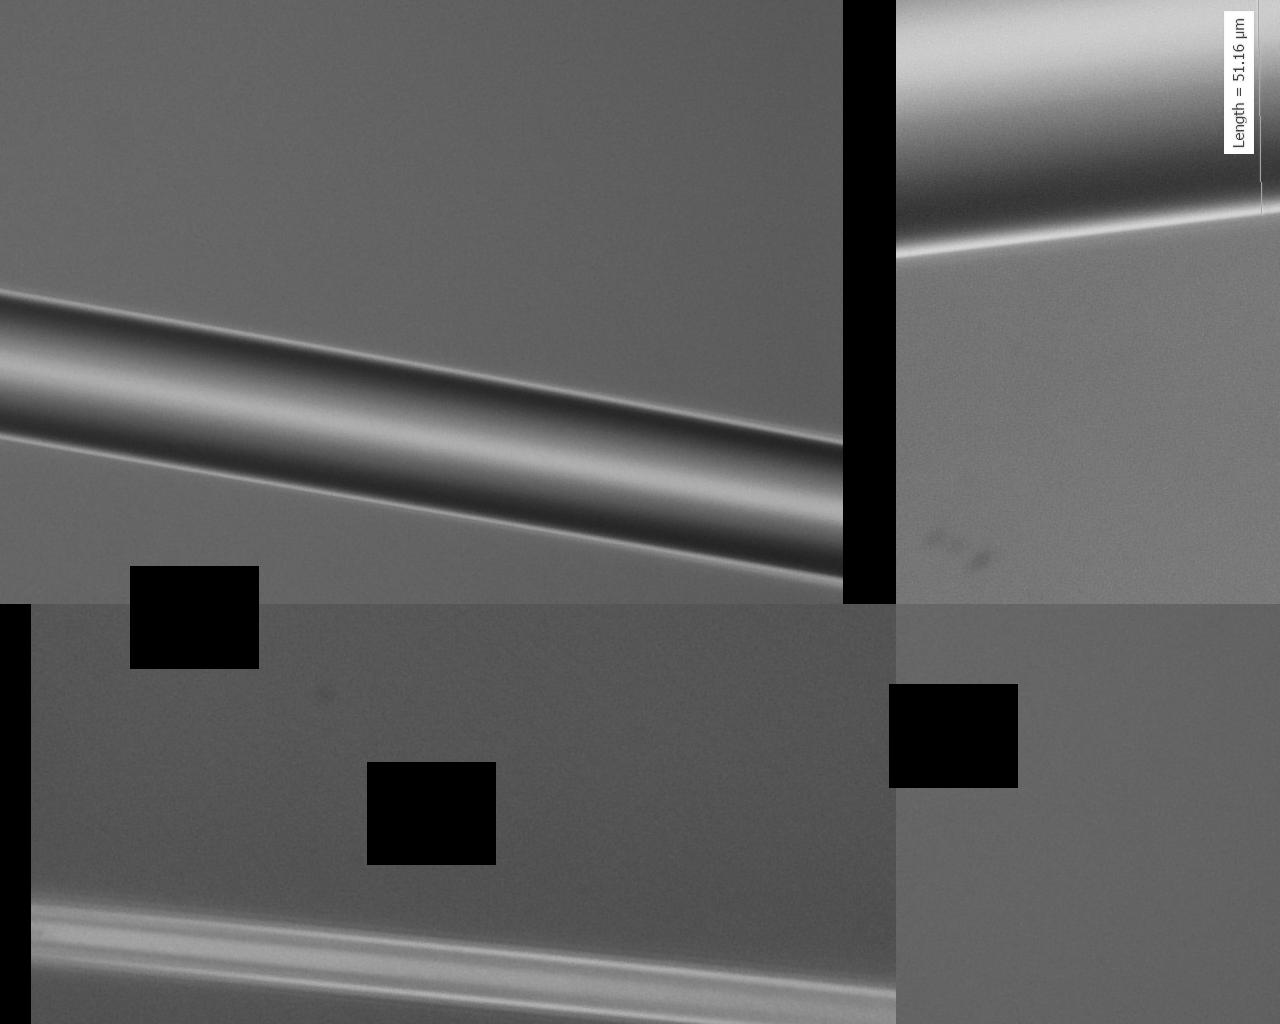fiber: (643, 577, 1280, 1024), (903, 0, 1069, 542)
